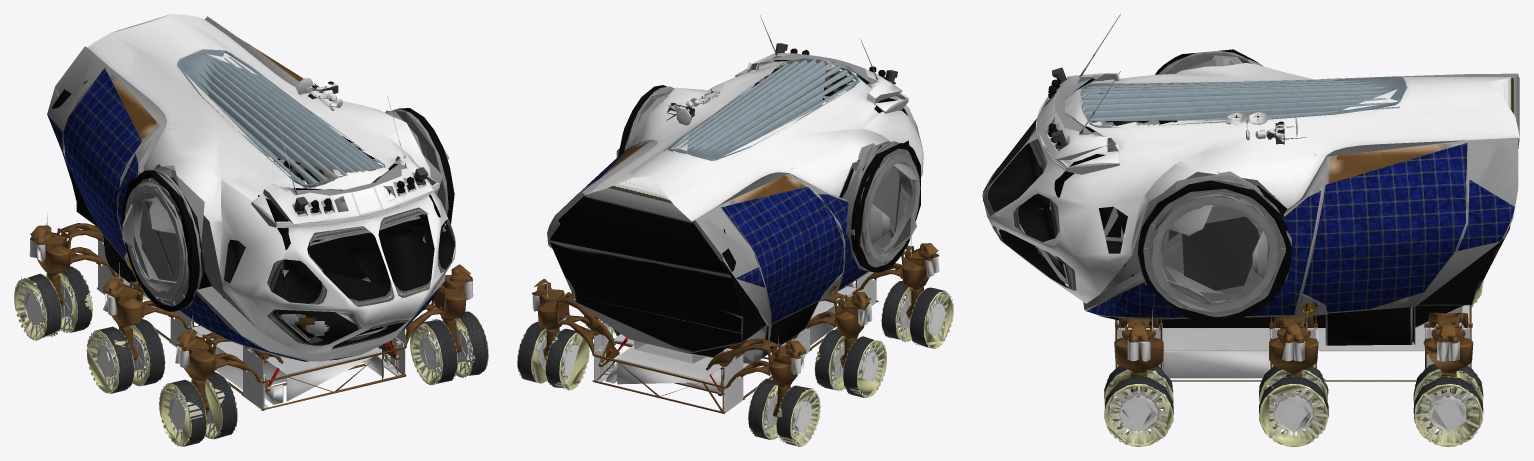
Rendered from rover_sev.glb.
3 renders of one model, left to right at view 1: azimuth 30°, elevation 25°; view 2: azimuth 150°, elevation 25°; view 3: azimuth 270°, elevation 25°, orthographic. The views are drawn at different scales.
Parts seen in each view (by area): view 1: MMSEV; view 2: MMSEV; view 3: MMSEV.
Part boxes in pixels (left/top/right/bottom): MMSEV: left=14, top=14, right=488, bottom=446; MMSEV: left=517, top=14, right=953, bottom=446; MMSEV: left=982, top=14, right=1519, bottom=446.
Bounding box in the file's own units: 4.04 × 3.97 × 5.9.
1 material, 1 textured.
